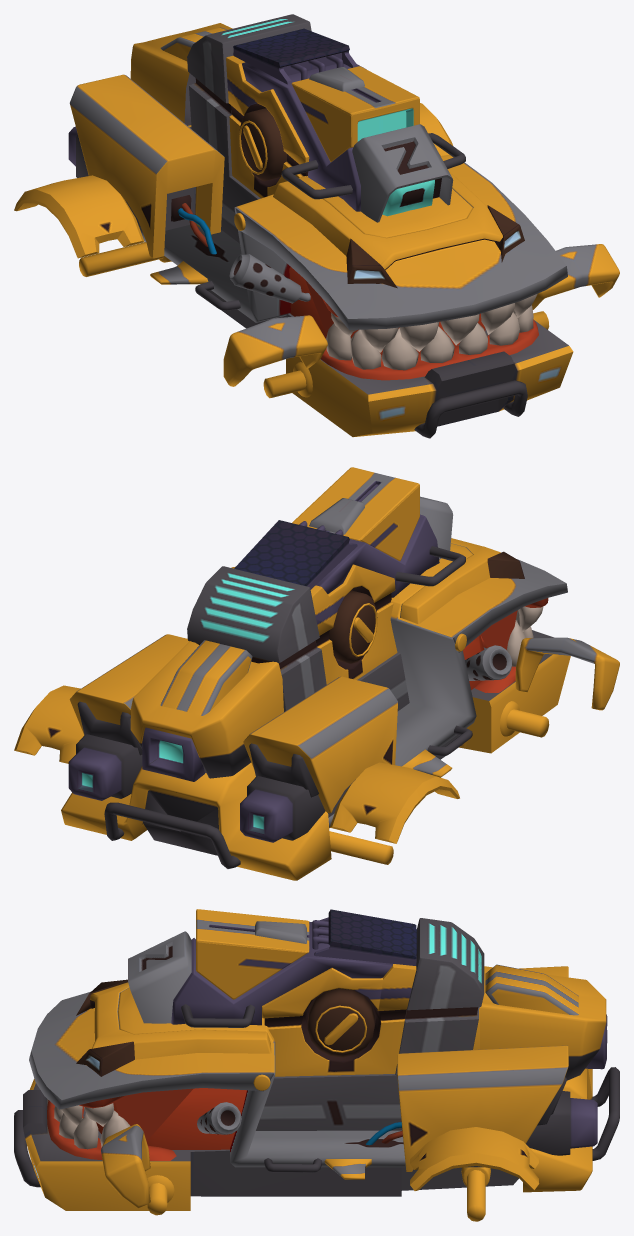
Rendered from Chariot03_cheshen.FBX.
3 renders of one model, top to bottom at view 1: azimuth 30°, elevation 25°; view 2: azimuth 150°, elevation 25°; view 3: azimuth 270°, elevation 25°, orthographic. The views are drawn at different scales.
Visible parts, largest first — view 1: Object003; view 2: Object003; view 3: Object003.
Boxes of the visible parts, <box> form: Object003: <box>14,14,619,438</box>; Object003: <box>14,467,619,880</box>; Object003: <box>14,909,619,1221</box>.
Bounding box in the file's own units: 120 × 78.21 × 175.
